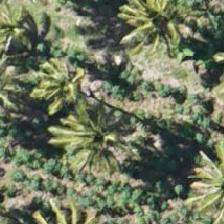coconut_tree: (20, 45, 110, 135), (43, 92, 133, 182), (119, 0, 209, 55), (168, 143, 223, 223), (0, 0, 56, 75)
